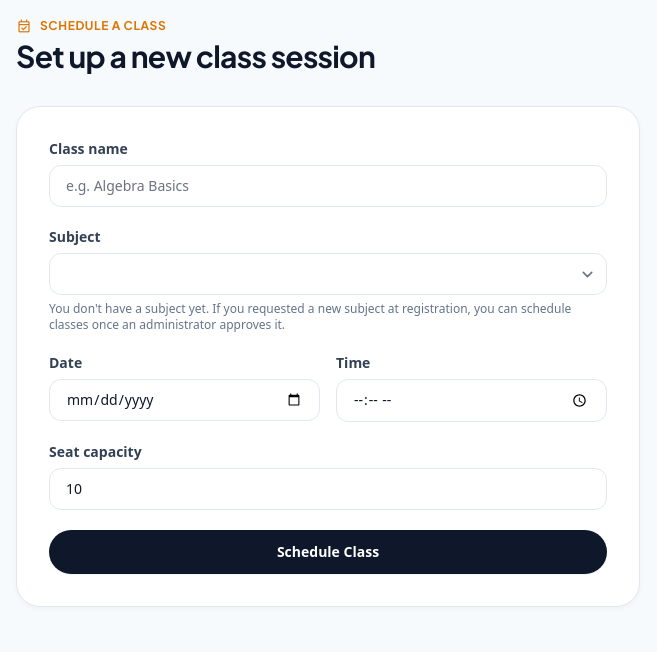
Test: ScheduleClassPage › shows a validation error and does not navigate when the server rejects a past date
Expected: the text "Schedule a Class" is shown, [16,16,166,36]
Type "Algebra Basics" into the field with placeholder "e.g. Algebra Basics" at coordinates (328, 186), box [49,165,607,207]
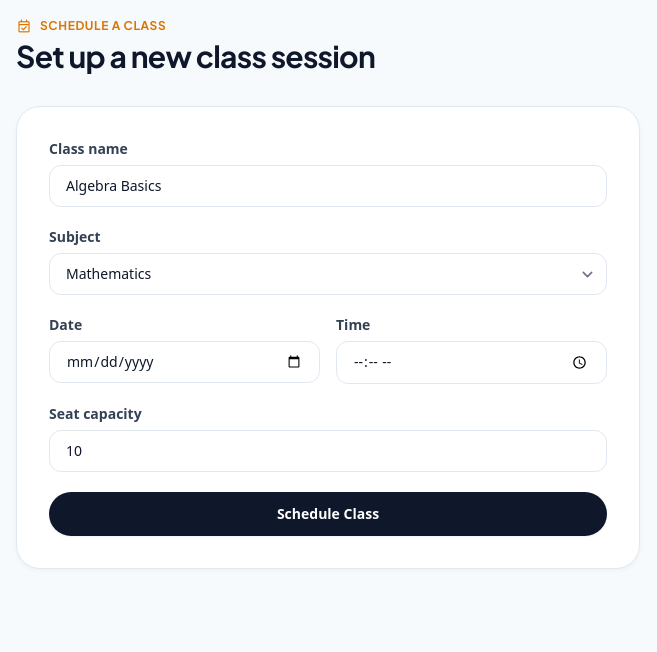
Type "2020-01-01" into the date field labelled "Date" at coordinates (184, 362), box [49,341,320,383]
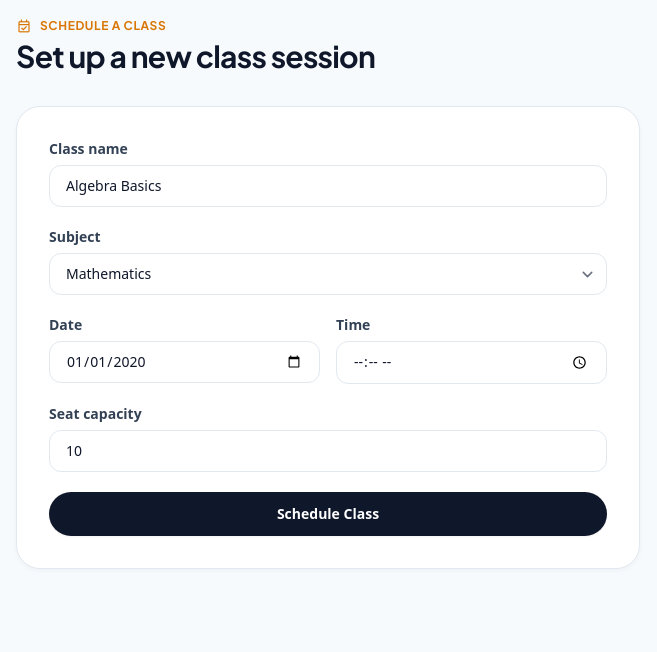
Type "10:00" into the time field labelled "Time" at coordinates (472, 362), box [336,341,607,384]
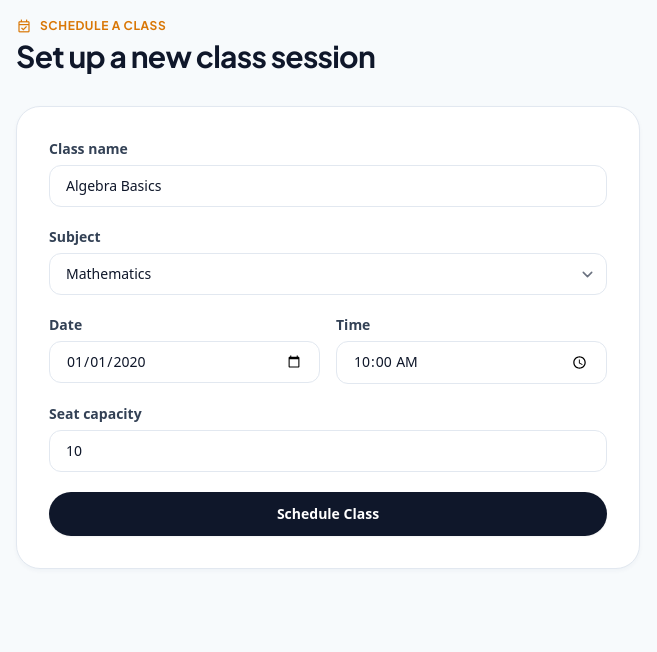
Click the button "Schedule Class" at coordinates (328, 514), box [49,492,607,536]
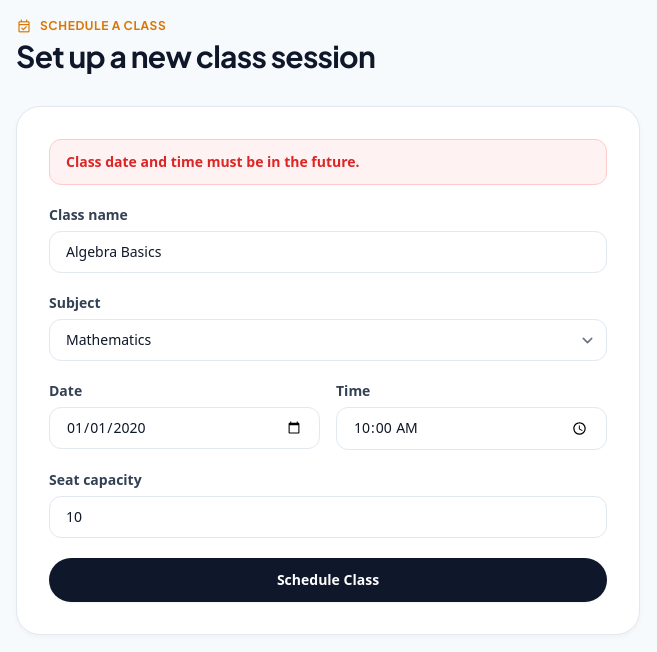
Result: the text "Class date and time must be in the future." is shown at [49,139,607,185]
